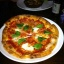basil: (7, 29, 26, 39), (14, 21, 32, 31), (36, 35, 49, 44), (16, 36, 27, 46), (33, 42, 43, 51), (35, 24, 47, 30), (42, 29, 53, 35)
pizza: (2, 13, 59, 60)
